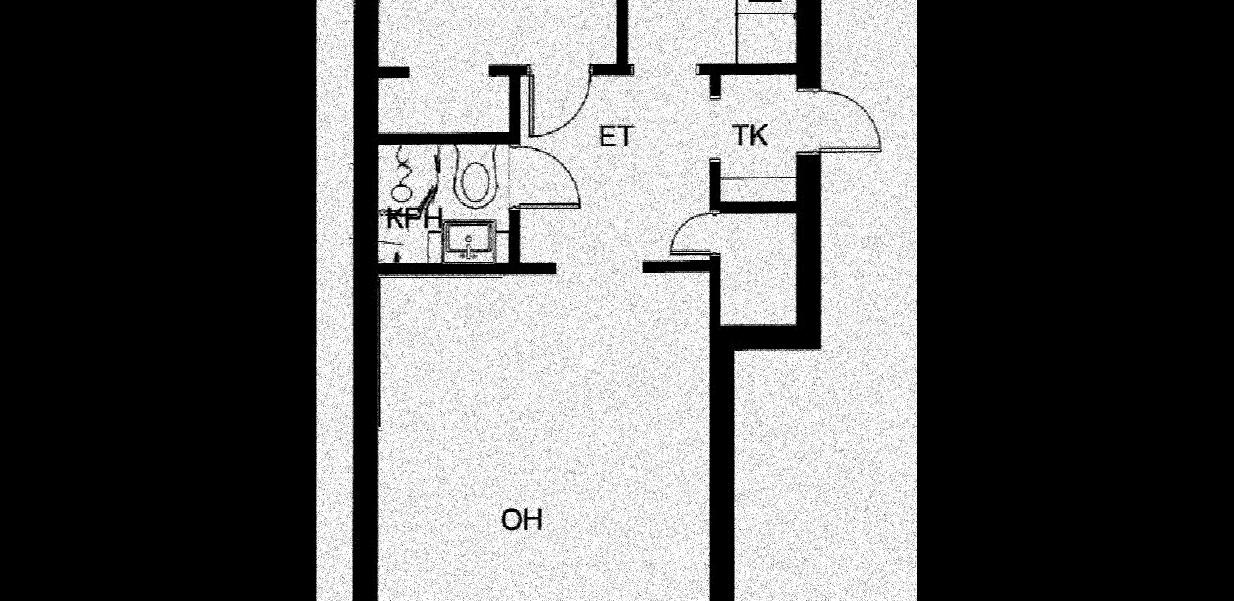door: (792, 87, 888, 154), (526, 61, 596, 138), (504, 146, 588, 210), (666, 208, 712, 258)
zone: (375, 0, 795, 601), (371, 0, 619, 132), (374, 144, 508, 265)
